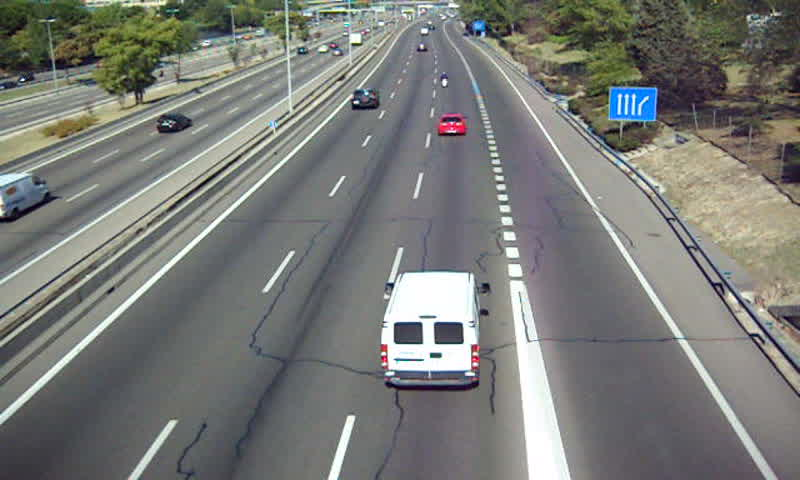car: (437, 115, 467, 136), (351, 88, 379, 110)
motorcycle: (438, 72, 451, 88)
van: (380, 271, 480, 385)
